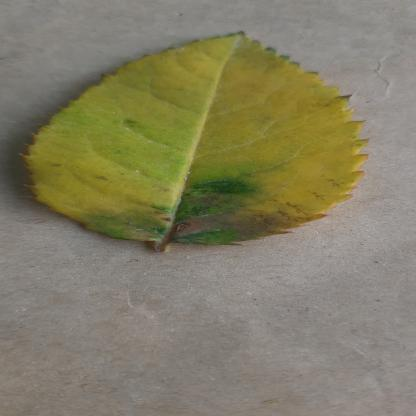black-spot: (14, 28, 374, 246)
